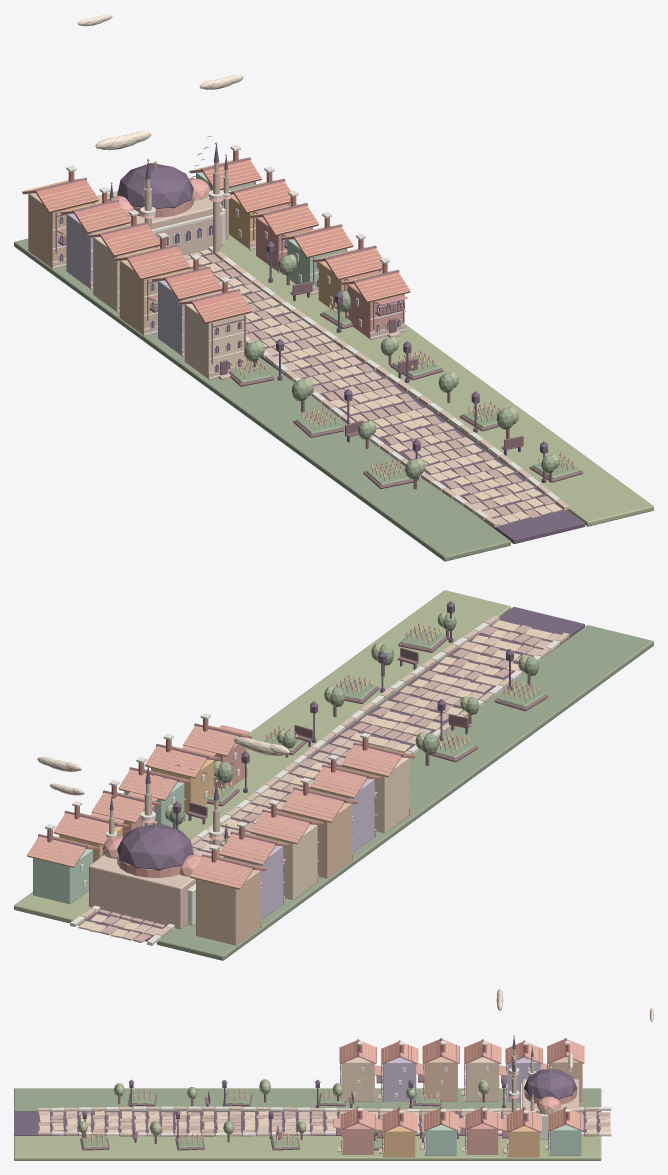
The model's file is Istanbul_Environment.glb.
3 renders of one model, top to bottom at view 1: azimuth 30°, elevation 25°; view 2: azimuth 150°, elevation 25°; view 3: azimuth 270°, elevation 25°, orthographic. The views are drawn at different scales.
Visible parts, largest first — view 1: Street_cobblestones, Park_left, Park_right, Street_foundation, House_01_body, Mosque_main_dome, Mosque_base, House_05_body, House_11_body, House_09_body, House_07_body, House_03_body (+17 smaller); view 2: Park_left, Street_cobblestones, Park_right, Mosque_base, Street_foundation, House_11_body, Mosque_main_dome, House_10_body, House_05_body, House_07_body, House_01_body, House_09_body (+19 smaller); view 3: Park_right, Park_left, Street_cobblestones, Street_foundation, House_05_body, House_01_body, House_07_body, Mosque_main_dome, House_03_body, House_08_body, House_02_body, House_00_body (+24 smaller).
Boxes of the visible parts, box(x1,y1,x2,y2) form: Street_cobblestones: box(183, 249, 562, 525); Park_left: box(14, 238, 510, 561); Park_right: box(220, 235, 653, 526); Street_foundation: box(184, 253, 584, 543); House_01_body: box(184, 303, 246, 378); Mosque_main_dome: box(117, 163, 193, 209); Mosque_base: box(93, 191, 222, 255); House_05_body: box(119, 260, 184, 334); House_11_body: box(28, 193, 92, 268); House_09_body: box(66, 213, 124, 288); House_07_body: box(93, 237, 154, 311); House_03_body: box(158, 280, 216, 355); Park_left: box(157, 625, 653, 960); Street_cobblestones: box(78, 620, 560, 942); Park_right: box(14, 590, 510, 925); Mosque_base: box(89, 851, 210, 929); Street_foundation: box(83, 607, 584, 941); House_11_body: box(196, 870, 260, 945); Mosque_main_dome: box(117, 823, 193, 870); House_10_body: box(33, 849, 92, 904); House_05_body: box(287, 803, 351, 878); House_07_body: box(256, 824, 317, 899); House_01_body: box(347, 757, 408, 832); House_09_body: box(224, 845, 283, 919); Park_right: box(14, 1136, 601, 1160); Park_left: box(14, 1088, 601, 1111); Street_cobblestones: box(38, 1111, 610, 1133); Street_foundation: box(14, 1111, 601, 1135); House_05_body: box(424, 1056, 457, 1101); House_01_body: box(341, 1057, 374, 1101); House_07_body: box(466, 1057, 499, 1101); Mosque_main_dome: box(524, 1069, 577, 1099); House_03_body: box(383, 1057, 416, 1101); House_08_body: box(508, 1126, 539, 1157); House_02_body: box(384, 1126, 415, 1157); House_00_body: box(342, 1123, 373, 1154).
Size of the model in its own units: 17.02 by 12.89 by 63.21.
